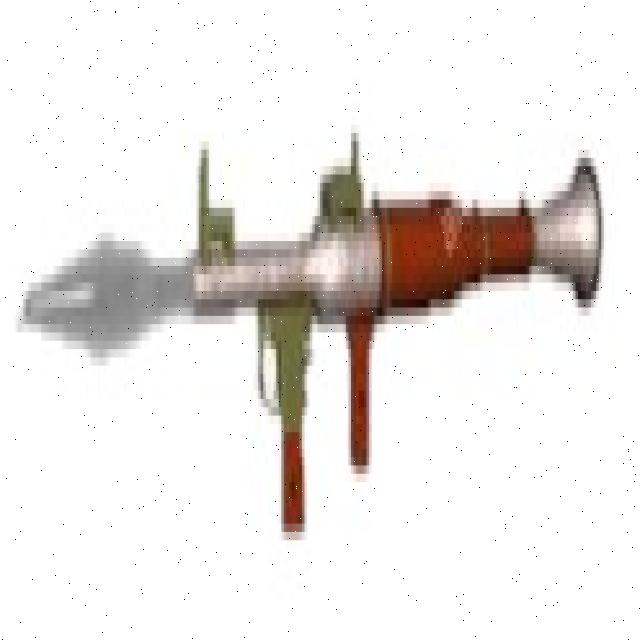bazooka: (15, 117, 609, 567)
